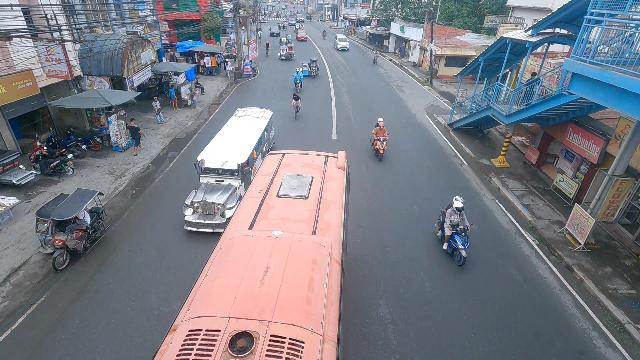bus: (154, 150, 349, 360)
car: (334, 34, 349, 50), (269, 25, 281, 37), (288, 18, 296, 26)
jeepney: (182, 106, 274, 232), (296, 28, 308, 42)
motorcycle: (436, 197, 472, 266), (371, 118, 389, 161), (293, 67, 304, 90), (322, 29, 327, 39)
